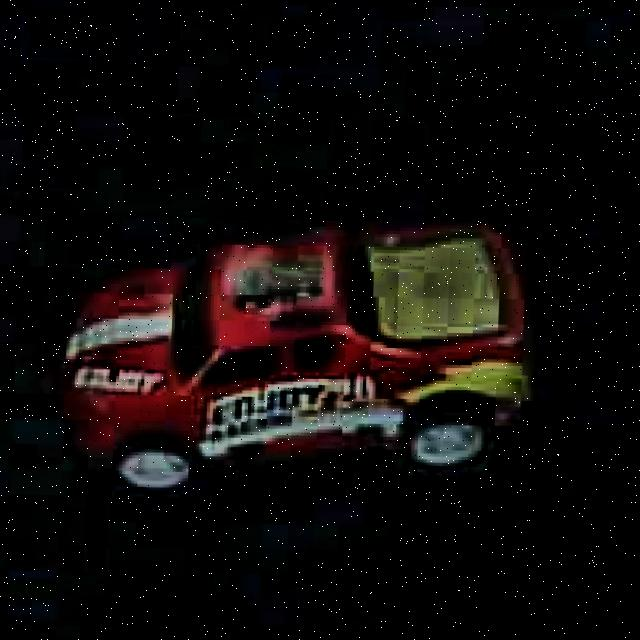car: (43, 200, 555, 526)
